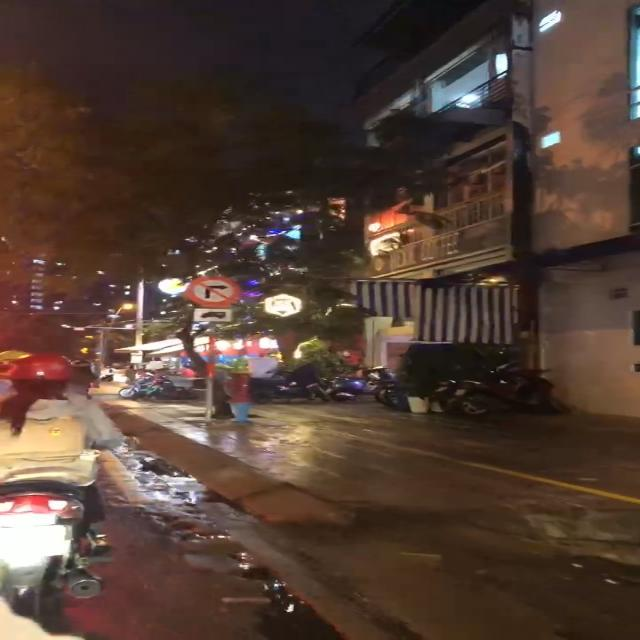Bien bao cam re phai: (180, 272, 243, 306)
